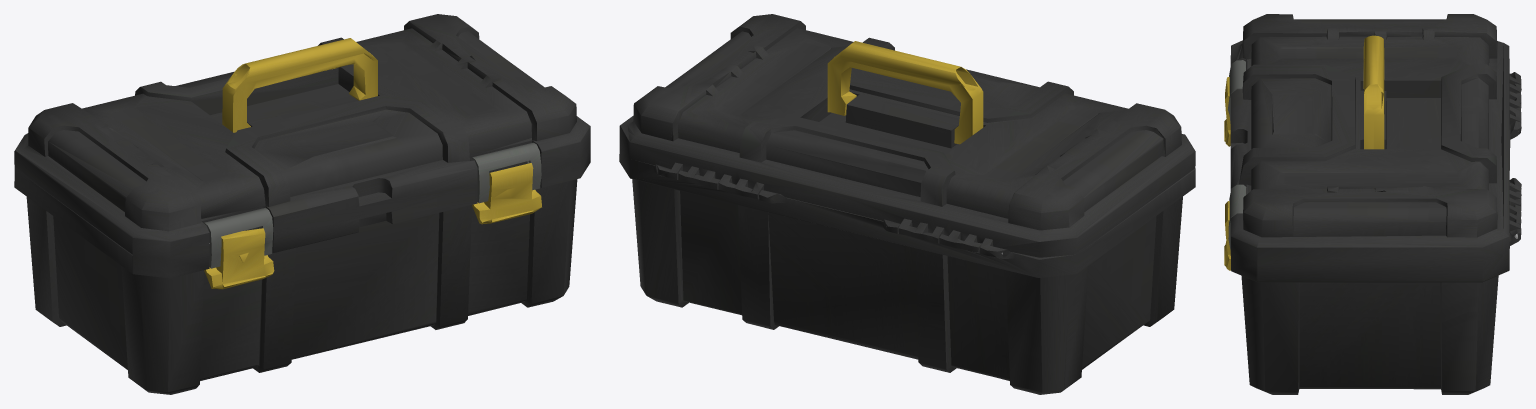
Rendered from simready-toolbox-hardcase.5865bc3f.glb.
3 renders of one model, left to right at view 1: azimuth 30°, elevation 25°; view 2: azimuth 150°, elevation 25°; view 3: azimuth 270°, elevation 25°, orthographic. The views are drawn at different scales.
Visible parts, largest first — view 1: model; view 2: model; view 3: model.
Boxes of the visible parts, x1,y1,x2,y2 form: model: [14, 14, 590, 394]; model: [619, 14, 1195, 394]; model: [1224, 14, 1521, 394].
Size of the model in its own units: 0.5306 by 0.279 by 0.3133.
4 materials, 4 textured.
